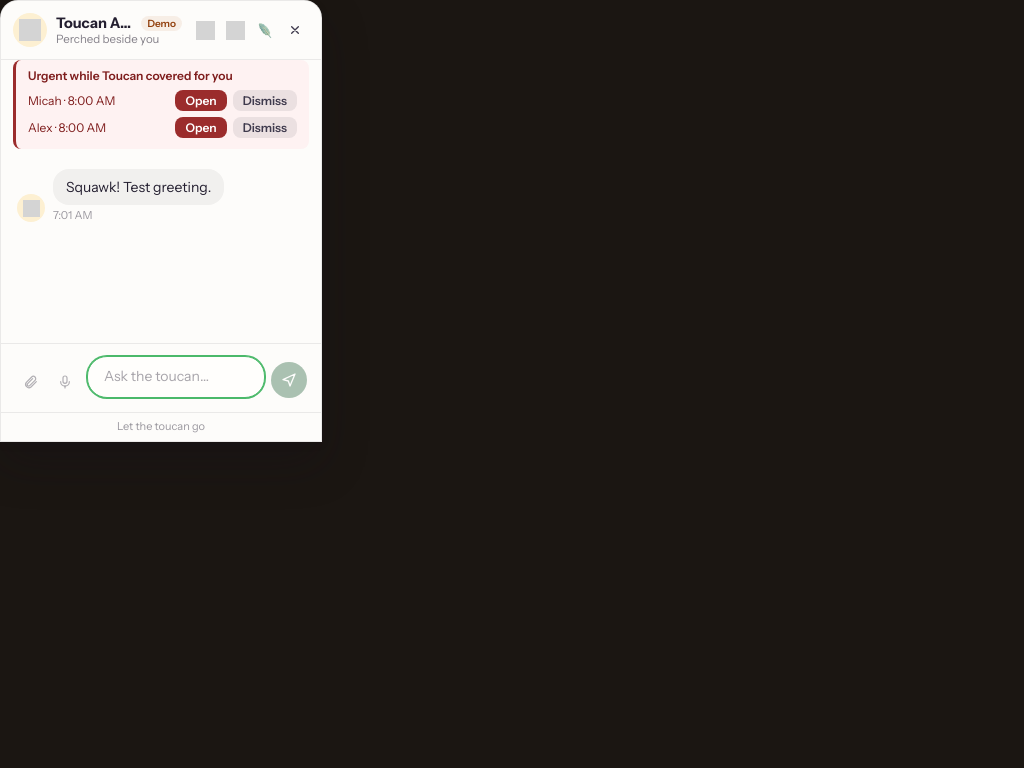
Scenario: ToucanAssistantPanel — A5 catch-up card › A3 flags the catch-up could not place still show on the urgent card
This screenshot has width=1024, height=768.
Type "catch me up" into the text box named "Message the toucan" at point(176, 377), box [87, 356, 265, 398]
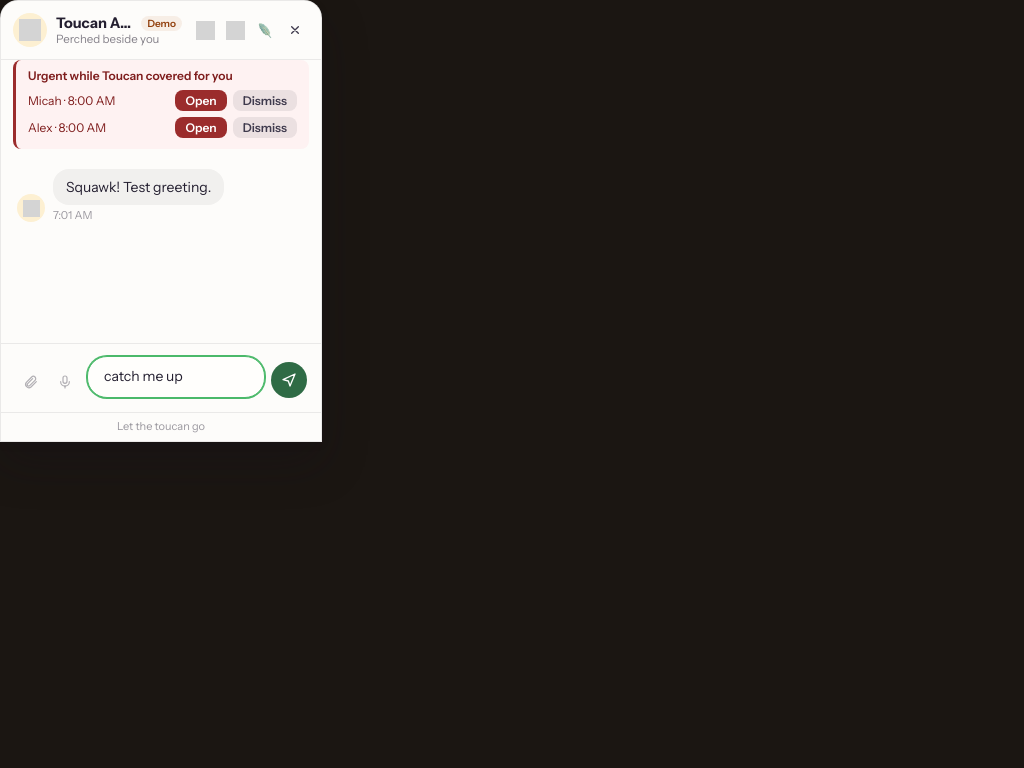
Press Enter in the text box named "Message the toucan", box [87, 356, 265, 398]
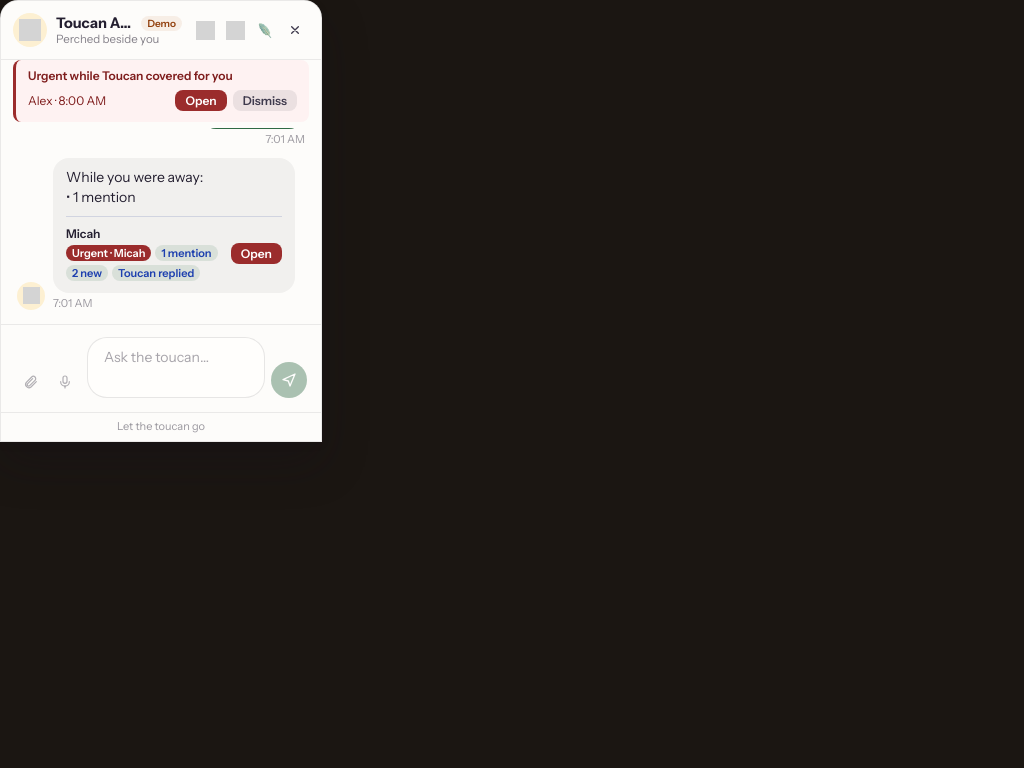
Check: the message with test id "toucan-urgent-card" shows "Alex", box [28, 93, 106, 108]
Check: the number of elements with test id "toucan-catchup-row" is 1, box [66, 223, 282, 284]
Check: the number of elements with test id "toucan-urgent-row" is 1, box [28, 87, 297, 114]
